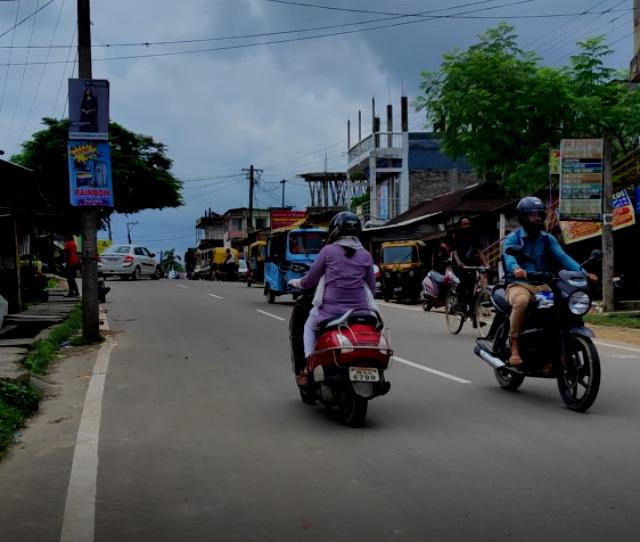licensePlate: (350, 367, 380, 385)
motorcycle: (473, 188, 607, 418), (279, 209, 403, 432)
withHelmet: (520, 195, 549, 232), (328, 212, 366, 238)
